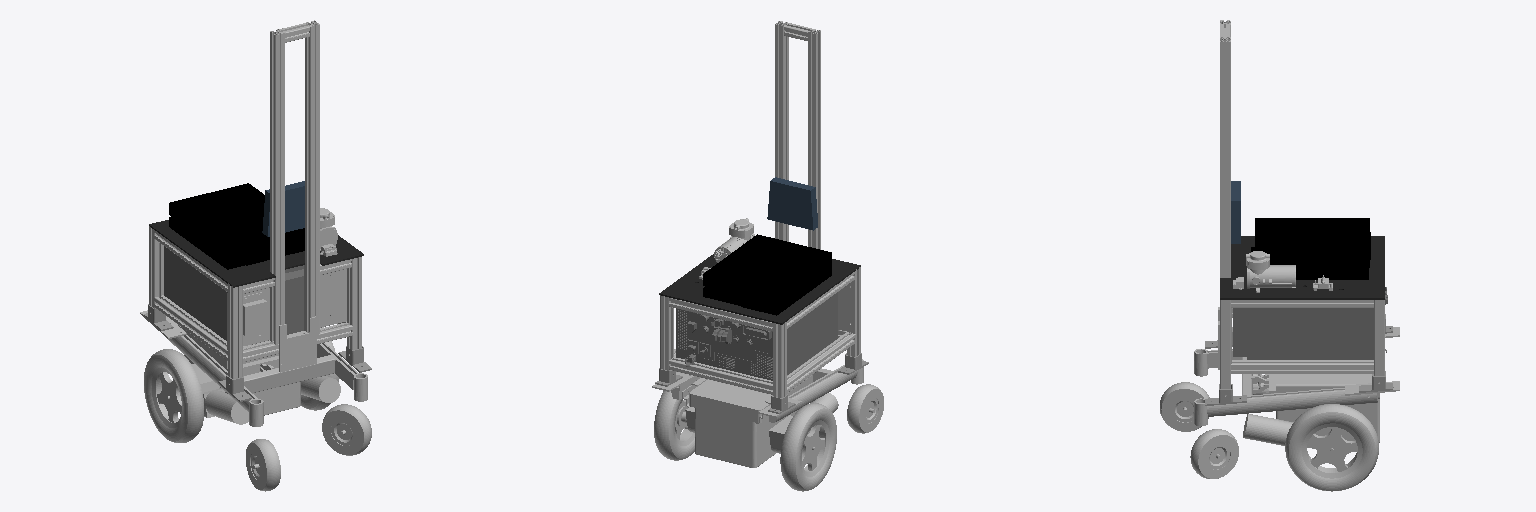
--- Facts derived from the render (not from the file) ---
3 views of the same robot in one strip: view 1: azimuth 30°, elevation 25°; view 2: azimuth 150°, elevation 25°; view 3: azimuth 270°, elevation 25° (orthographic).
Model abby with 38 links and 37 joints (6 revolute, 6 continuous, 25 fixed), rooted at frame1, posed all joints at 0.
Links seen in each view (by area): view 1: frame1, frame_solid:11, PC1, r_drive wheel1, IRC5_Compact1, top_plate1, l_caster_wheel1, r_caster_wheel1, router1, compressor1; view 2: frame1, frame_solid:11, IRC5_Compact1, PC1, r_drive wheel1, top_plate1, router1, l_drive_wheel1, r_caster_wheel1, compressor1; view 3: frame1, frame_solid:11, IRC5_Compact1, PC1, l_drive_wheel1, top_plate1, l_caster_wheel1, r_caster_wheel1, compressor1, router1.
Boxes of the visible links, x1,y1,x2,y2 form: frame1: (149,20,361,378); frame_solid:11: (167,323,367,426); PC1: (169,183,304,269); r_drive wheel1: (144,349,203,442); IRC5_Compact1: (164,246,329,344); top_plate1: (149,220,363,287); l_caster_wheel1: (322,404,371,455); r_caster_wheel1: (246,439,280,491); router1: (262,181,304,236); compressor1: (320,208,337,248); frame1: (660,21,860,397); frame_solid:11: (671,359,863,467); IRC5_Compact1: (676,292,837,380); PC1: (703,234,831,315); r_drive wheel1: (780,403,836,491); top_plate1: (659,254,860,324); router1: (767,177,817,230); l_drive_wheel1: (654,391,694,460); r_caster_wheel1: (847,384,883,433); compressor1: (714,218,754,262); frame1: (1218,20,1384,395); frame_solid:11: (1194,349,1379,451); IRC5_Compact1: (1233,287,1387,359); PC1: (1251,218,1370,279); l_drive_wheel1: (1285,404,1378,491); top_plate1: (1220,236,1384,299); l_caster_wheel1: (1190,429,1238,478); r_caster_wheel1: (1160,382,1209,431); compressor1: (1246,251,1295,292); router1: (1231,181,1240,243).
Size in the robot's own frame: 0.6308 by 0.8792 by 1.72 metres.
19 mesh visuals loaded from 26 distinct referenced files (14 binary STL); not drawn: 14 (reference not matched to a file when rendering).

The robot description file, URDF, robot "abby":
<?xml version="1.0" ?>
<!-- =================================================================================== -->
<!-- |    This document was autogenerated by xacro from abby.xacro                     | -->
<!-- |    EDITING THIS FILE BY HAND IS NOT RECOMMENDED                                 | -->
<!-- =================================================================================== -->
<robot name="abby" xmlns:controller="http://playerstage.sourceforge.net/gazebo/xmlschema/#controller" xmlns:interface="http://playerstage.sourceforge.net/gazebo/xmlschema/#interface" xmlns:sensor="http://playerstage.sourceforge.net/gazebo/xmlschema/#sensor" xmlns:xacro="http://ros.org/wiki/xacro">
  <link name="irb_120_base_link">
    <visual>
      <geometry>
        <mesh filename="package://abb_common/meshes/irb_120/visual/base_link.stl" scale="0.0254 0.0254 0.0254"/>
      </geometry>
      <origin rpy="0 0 0" xyz="0.04203954 -0.07963916 8.0162399451e-05"/>
      <material name="IRB120_Base_rev0:11_color">
        <color rgba="0.752941 0.752941 0.752941 1"/>
      </material>
    </visual>
    <inertial>
      <mass value="6.21503193527"/>
      <inertia ixx="0.0247271241712" ixy="-0.00130888043627" ixz="-8.0795905152e-05" iyy="0.04723746454" iyz="-8.0325637493e-06" izz="0.049128484834"/>
      <origin rpy="0 0 0" xyz="0 0 0"/>
    </inertial>
    <collision>
      <geometry>
        <mesh filename="package://abb_common/meshes/irb_120/collision/base_link.stl" scale="0.0254 0.0254 0.0254"/>
      </geometry>
      <origin rpy="0 0 0" xyz="0.04203954 -0.07963916 8.0162399451e-05"/>
    </collision>
  </link>
  <link name="irb_120_link_1">
    <visual>
      <geometry>
        <mesh filename="package://abb_common/meshes/irb_120/visual/link_1.stl" scale="0.0254 0.0254 0.0254"/>
      </geometry>
      <origin rpy="0 0 0" xyz="0 -0.17649952 0"/>
      <material name="IRB120_Link1_rev0:11_color">
        <color rgba="0.752941 0.752941 0.752941 1"/>
      </material>
    </visual>
    <inertial>
      <mass value="3.06736850696"/>
      <inertia ixx="0.0142194659396" ixy="2.31078173317e-05" ixz="-1.08613978372e-05" iyy="0.0104561541196" iyz="1.93410231314e-05" izz="0.0144054074894"/>
      <origin rpy="0 0 0" xyz="9.92932610521e-05 0.0619125 0.000120146707416"/>
    </inertial>
    <collision>
      <geometry>
        <mesh filename="package://abb_common/meshes/irb_120/collision/link_1.stl" scale="0.0254 0.0254 0.0254"/>
      </geometry>
      <origin rpy="0 0 0" xyz="0 -0.17649952 0"/>
    </collision>
  </link>
  <link name="irb_120_link_2">
    <visual>
      <geometry>
        <mesh filename="package://abb_common/meshes/irb_120/visual/link_2.stl" scale="0.0254 0.0254 0.0254"/>
      </geometry>
      <origin rpy="0 0 0" xyz="1.54358428872e-06 0.269999754796 0.115499748015"/>
      <material name="IRB120_Link2_rev0:11_color">
        <color rgba="0.752941 0.752941 0.752941 1"/>
      </material>
    </visual>
    <inertial>
      <mass value="3.90875060185"/>
      <inertia ixx="0.060313948885" ixy="-5.7255892235e-05" ixz="9.0138634014e-06" iyy="0.0259554972424" iyz="-0.00050500074453" izz="0.041571134309"/>
      <origin rpy="0 0 0" xyz="0.000778420420581 0.101238818962 0.0596167646499"/>
    </inertial>
    <collision>
      <geometry>
        <mesh filename="package://abb_common/meshes/irb_120/collision/link_2.stl" scale="0.0254 0.0254 0.0254"/>
      </geometry>
      <origin rpy="0 0 0" xyz="1.54358428872e-06 0.269999754796 0.115499748015"/>
    </collision>
  </link>
  <link name="irb_120_link_3">
    <visual>
      <geometry>
        <mesh filename="package://abb_common/meshes/irb_120/visual/link_3.stl" scale="0.0254 0.0254 0.0254"/>
      </geometry>
      <origin rpy="0 0 0" xyz="0.071952848745 -0.0661526901756 0.0589997805382"/>
      <material name="IRB120_Link3_rev0:11_color">
        <color rgba="0.752941 0.752941 0.752941 1"/>
      </material>
    </visual>
    <inertial>
      <mass value="2.94383262499"/>
      <inertia ixx="0.0083145487625" ixy="-0.00142864798126" ixz="-7.9926773262e-05" iyy="0.0126560235034" iyz="-0.000181719383164" izz="0.016713669618"/>
      <origin rpy="0 0 0" xyz="0.0228077138503 0.0579088629114 0.0579265785584"/>
    </inertial>
    <collision>
      <geometry>
        <mesh filename="package://abb_common/meshes/irb_120/collision/link_3.stl" scale="0.0254 0.0254 0.0254"/>
      </geometry>
      <origin rpy="0 0 0" xyz="0.071952848745 -0.0661526901756 0.0589997805382"/>
    </collision>
  </link>
  <link name="irb_120_link_4">
    <visual>
      <geometry>
        <mesh filename="package://abb_common/meshes/irb_120/visual/link_4.stl" scale="0.0254 0.0254 0.0254"/>
      </geometry>
      <origin rpy="0 0 0" xyz="500.302187012 0.00151561224702 -0.000313229561613"/>
      <material name="IRB120_Link4_rev0:11_color">
        <color rgba="0.752941 0.752941 0.752941 1"/>
      </material>
    </visual>
    <inertial>
      <mass value="1.32790527095"/>
      <inertia ixx="0.00284579825479" ixy="1.64819596414e-05" ixz="-2.12443634431e-05" iyy="0.0052535657425" iyz="1.31403377384e-05" izz="0.0040129019173"/>
      <origin rpy="0 0 0" xyz="500.224891826 0.00192302092756 -0.000467285335568"/>
    </inertial>
    <collision>
      <geometry>
        <mesh filename="package://abb_common/meshes/irb_120/collision/link_4.stl" scale="0.0254 0.0254 0.0254"/>
      </geometry>
      <origin rpy="0 0 0" xyz="500.302187012 0.00151561224702 -0.000313229561613"/>
    </collision>
  </link>
  <link name="irb_120_link_5">
    <visual>
      <geometry>
        <mesh filename="package://abb_common/meshes/irb_120/visual/link_5.stl" scale="0.0254 0.0254 0.0254"/>
      </geometry>
      <origin rpy="0 0 0" xyz="-0.301998488439 -0.629998750685 -0.0619993114233"/>
      <material name="IRB120_Link5_rev0:11_color">
        <color rgba="0.752941 0.752941 0.752941 1"/>
      </material>
    </visual>
    <inertial>
      <mass value="0.546633236934"/>
      <inertia ixx="0.00040430142646" ixy="-8.1520474364e-07" ixz="1.6167316339e-06" iyy="0.00081538617858" iyz="-1.38898103591e-08" izz="0.00089215071642"/>
      <origin rpy="0 0 0" xyz="-0.00109373496991 6.05486054406e-05 -0.0620361403843"/>
    </inertial>
    <collision>
      <geometry>
        <mesh filename="package://abb_common/meshes/irb_120/collision/link_5.stl" scale="0.0254 0.0254 0.0254"/>
      </geometry>
      <origin rpy="0 0 0" xyz="-0.301998488439 -0.629998750685 -0.0619993114233"/>
    </collision>
  </link>
  <link name="irb_120_link_6">
    <visual>
      <geometry>
        <mesh filename="package://abb_common/meshes/irb_120/visual/link_6.stl" scale="0.0254 0.0254 0.0254"/>
      </geometry>
      <origin rpy="0 0 0" xyz="-2.74896335695e-07 -8.57788299224e-07 -0.0130000906507"/>
      <material name="IRB120_Link6_rev0:11_color">
        <color rgba="0.752941 0.752941 0.752941 1"/>
      </material>
    </visual>
    <inertial>
      <mass value="0.0136784407912"/>
      <inertia ixx="1.65768910842e-06" ixy="-3.0670406059e-12" ixz="8.9225606574e-11" iyy="1.69424824883e-06" iyz="-7.6624364717e-09" izz="2.9767913551e-06"/>
      <origin rpy="0 0 0" xyz="-4.42649390919e-07 0.000169444143624 -0.0070610831163"/>
    </inertial>
    <collision>
      <geometry>
        <mesh filename="package://abb_common/meshes/irb_120/collision/link_6.stl" scale="0.0254 0.0254 0.0254"/>
      </geometry>
      <origin rpy="0 0 0" xyz="-2.74896335695e-07 -8.57788299224e-07 -0.0130000906507"/>
    </collision>
  </link>
  <joint name="joint1" type="revolute">
    <parent link="irb_120_base_link"/>
    <child link="irb_120_link_1"/>
    <limit effort="300" lower="-2.88" upper="2.88" velocity="4.36"/>
    <axis xyz="0 1 0"/>
    <origin rpy="-3.14159265359 3.14159265359 3.14159265359" xyz="0.04203954 0.09686036 0"/>
  </joint>
  <joint name="joint2" type="revolute">
    <parent link="irb_120_link_1"/>
    <child link="irb_120_link_2"/>
    <limit effort="300" lower="-1.92" upper="1.92" velocity="4.36"/>
    <axis xyz="0 0 1"/>
    <origin rpy="3.14159265359 0 3.14159265359" xyz="0 0.1134999 0.0574996276953"/>
  </joint>
  <joint name="joint3" type="revolute">
    <parent link="irb_120_link_2"/>
    <child link="irb_120_link_3"/>
    <limit effort="300" lower="-1.92" upper="1.22" velocity="4.36"/>
    <axis xyz="0 0 -1"/>
    <origin rpy="3.14159265359 0 3.14159265359" xyz="0 0.270000153642 0.108"/>
  </joint>
  <joint name="joint4" type="revolute">
    <parent link="irb_120_link_3"/>
    <child link="irb_120_link_4"/>
    <limit effort="300" lower="-2.79" upper="2.79" velocity="5.58"/>
    <axis xyz="1 0 0"/>
    <origin rpy="0 0 0" xyz="-500.000188071 0.0701403024607 0.060593734446"/>
  </joint>
  <joint name="joint5" type="revolute">
    <parent link="irb_120_link_4"/>
    <child link="irb_120_link_5"/>
    <limit effort="300" lower="-2.09" upper="2.09" velocity="5.58"/>
    <axis xyz="0 0 -1"/>
    <origin rpy="0 0 0" xyz="500.302186066 0.00151566707848 0.0616850168905"/>
  </joint>
  <joint name="joint6" type="revolute">
    <parent link="irb_120_link_5"/>
    <child link="irb_120_link_6"/>
    <limit effort="300" lower="-6.98" upper="6.98" velocity="7.33"/>
    <axis xyz="0 0 1"/>
    <origin rpy="-1.5707961734 0 -1.57079621992" xyz="0.072000865279 0 -0.0620001796247"/>
  </joint>
  <joint name="base_camera_joint" type="fixed">
    <origin rpy="0 0.436331944 -1.570795" xyz="0.04464 -0.6357 1.491"/>
    <parent link="frame1"/>
    <origin rpy="0 0 0" xyz="0 0 0"/>
    <child link="camera_link"/>
  </joint>
  <link name="camera_link">
    <inertial>
      <mass value="0.01"/>
      <origin xyz="0 0 0"/>
      <inertia ixx="0.001" ixy="0.0" ixz="0.0" iyy="0.001" iyz="0.0" izz="0.001"/>
    </inertial>
    <visual>
      <origin rpy="0 0 0" xyz=" 0 0 0 "/>
      <geometry>
        <mesh filename="package://cwru_description/meshes/kinect.dae"/>
      </geometry>
    </visual>
    <collision>
      <origin rpy="0 0 0" xyz="0.0 0.0 0.0"/>
      <geometry>
        <box size="0.0730 .2760 0.0720"/>
      </geometry>
    </collision>
  </link>
  <joint name="camera_depth_joint" type="fixed">
    <origin rpy="0 0 0" xyz="0 0.018 0"/>
    <parent link="camera_link"/>
    <child link="camera_depth_frame"/>
  </joint>
  <link name="camera_depth_frame">
    <inertial>
      <mass value="0.01"/>
      <origin xyz="0 0 0"/>
      <inertia ixx="0.001" ixy="0.0" ixz="0.0" iyy="0.001" iyz="0.0" izz="0.001"/>
    </inertial>
  </link>
  <joint name="camera_depth_optical_joint" type="fixed">
    <origin rpy="-1.570795 0 -1.570795" xyz="0 0 0"/>
    <parent link="camera_depth_frame"/>
    <child link="camera_depth_optical_frame"/>
  </joint>
  <link name="camera_depth_optical_frame">
    <inertial>
      <mass value="0.001"/>
      <origin xyz="0 0 0"/>
      <inertia ixx="0.0001" ixy="0.0" ixz="0.0" iyy="0.0001" iyz="0.0" izz="0.0001"/>
    </inertial>
  </link>
  <joint name="camera_rgb_joint" type="fixed">
    <origin rpy="0 0 0" xyz="0 -0.005 0"/>
    <parent link="camera_link"/>
    <child link="camera_rgb_frame"/>
  </joint>
  <link name="camera_rgb_frame">
    <inertial>
      <mass value="0.001"/>
      <origin xyz="0 0 0"/>
      <inertia ixx="0.0001" ixy="0.0" ixz="0.0" iyy="0.0001" iyz="0.0" izz="0.0001"/>
    </inertial>
  </link>
  <joint name="camera_rgb_optical_joint" type="fixed">
    <origin rpy="-1.570795 0 -1.570795" xyz="0 0 0"/>
    <parent link="camera_rgb_frame"/>
    <child link="camera_rgb_optical_frame"/>
  </joint>
  <link name="camera_rgb_optical_frame">
    <inertial>
      <mass value="0.001"/>
      <origin xyz="0 0 0"/>
      <inertia ixx="0.0001" ixy="0.0" ixz="0.0" iyy="0.0001" iyz="0.0" izz="0.0001"/>
    </inertial>
  </link>
  <gazebo reference="camera_link">
    <sensor:camera name="camera">
      <imageFormat>R8G8B8</imageFormat>
      <imageSize>640 480</imageSize>
      <hfov>60</hfov>
      <nearClip>0.05</nearClip>
      <farClip>3</farClip>
      <updateRate>20</updateRate>
      <baseline>0.1</baseline>
      <controller:gazebo_ros_openni_kinect name="kinect_camera_controller" plugin="libgazebo_ros_openni_kinect.so">
        <alwaysOn>true</alwaysOn>
        <updateRate>20</updateRate>
        <imageTopicName>/camera/image_raw</imageTopicName>
        <pointCloudTopicName>/camera/depth/points</pointCloudTopicName>
        <cameraInfoTopicName>/camera/camera_info</cameraInfoTopicName>
        <frameName>camera_depth_optical_frame</frameName>
        <distortion_k1>0.0</distortion_k1>
        <distortion_k2>0.0</distortion_k2>
        <distortion_k3>0.0</distortion_k3>
        <distortion_t1>0.0</distortion_t1>
        <distortion_t2>0.0</distortion_t2>
      </controller:gazebo_ros_openni_kinect>
    </sensor:camera>
  </gazebo>
  <joint name="base_laser_joint" type="fixed">
    <origin rpy="1.5707959092 0 -3.14159265358" xyz="-0.0255468119868 -0.474758386705 0.311455920061"/>
    <parent link="frame1"/>
    <origin rpy="0 0 0" xyz="0 0 0"/>
    <child link="SICK_LMS291"/>
  </joint>
  <link name="SICK_LMS291">
    <visual>
      <geometry>
        <mesh filename="package://cwru_description/meshes/sick_lms291.stl" scale="0.0254 0.0254 0.0254"/>
      </geometry>
      <origin rpy="0 0 0" xyz="-0.0683999139953 -0.00245779587475 -0.0929987962566"/>
      <material name="SICK_LMS2911_color">
        <color rgba="0.752941 0.752941 0.752941 1"/>
      </material>
    </visual>
    <inertial>
      <mass value="3.71737544502"/>
      <inertia ixx="0.0174805834039" ixy="-4.4195210288e-07" ixz="4.1599227461e-07" iyy="0.0127643577208" iyz="0.00072853444335" izz="0.0175041992098"/>
      <origin rpy="0 0 0" xyz="-0.0684016920036 0.0653465146418 -0.0708751847642"/>
    </inertial>
    <collision>
      <geometry>
        <mesh filename="package://cwru_description/meshes/sick_lms291.stl" scale="0.0254 0.0254 0.0254"/>
      </geometry>
      <origin rpy="0 0 0" xyz="-0.0683999139953 -0.00245779587475 -0.0929987962566"/>
    </collision>
  </link>
  <link name="base_laser1_link">
    <inertial>
      <mass value="0.01"/>
      <origin xyz="0 0 0"/>
      <inertia ixx="0.001" ixy="0.0" ixz="0.0" iyy="0.001" iyz="0.0" izz="0.001"/>
    </inertial>
  </link>
  <joint name="SICK_laser_frame_joint" type="fixed">
    <origin rpy="1.266 1.571 2.837" xyz="-0.0683999139953 0.035 -0.093"/>
    <parent link="SICK_LMS291"/>
    <child link="base_laser1_link"/>
  </joint>
  <link name="frame1">
    <visual>
      <geometry>
        <mesh filename="package://abby_description/meshes/al_frame_iam_3826baa4.stl" scale="0.0254 0.0254 0.0254"/>
      </geometry>
      <origin rpy="0 0 0" xyz="0.0446356739978 0.177065647653 -0.0893087163603"/>
      <material name="frame1_color">
        <color rgba="0.752941 0.752941 0.752941 1"/>
      </material>
    </visual>
    <inertial>
      <mass value="12.7774249075"/>
      <inertia ixx="2.11995607184" ixy="-0.0128393605839" ixz="-0.0068818565379" iyy="1.84586933127" iyz="0.34872380742" izz="1.11710077832"/>
      <origin rpy="0 0 0" xyz="0.0382793240557 -0.271251963735 0.649589084908"/>
    </inertial>
    <collision>
      <geometry>
        <mesh filename="package://abby_description/meshes/al_frame_iam_3826baa4.stl" scale="0.0254 0.0254 0.0254"/>
      </geometry>
      <origin rpy="0 0 0" xyz="0.0446356739978 0.177065647653 -0.0893087163603"/>
    </collision>
  </link>
  <link name="f_r_frame_bracket1">
    <visual>
      <geometry>
        <mesh filename="package://abby_description/meshes/frame bracket_ipt_f5a4f28d.stl" scale="0.0254 0.0254 0.0254"/>
      </geometry>
      <origin rpy="0 0 0" xyz="-0.0946635865578 -0.0205552039632 -0.424782665556"/>
      <material name="f_r_frame_bracket1_color">
        <color rgba="0.639216 0.639216 0.639216 1"/>
      </material>
    </visual>
    <inertial>
      <mass value="0.71440798275"/>
      <inertia ixx="0.00043051877529" ixy="0.0" ixz="-1.18150140291e-05" iyy="0.00109167940213" iyz="0.0" izz="0.00105983757016"/>
      <origin rpy="0 0 0" xyz="-0.0175668955453 0.00484479603152 -0.408054413923"/>
    </inertial>
    <collision>
      <geometry>
        <mesh filename="package://abby_description/meshes/frame bracket_ipt_f5a4f28d.stl" scale="0.0254 0.0254 0.0254"/>
      </geometry>
      <origin rpy="0 0 0" xyz="-0.0946635865578 -0.0205552039632 -0.424782665556"/>
    </collision>
  </link>
  <joint name="frame--f_r_frame_bracket1" type="fixed">
    <parent link="frame1"/>
    <child link="f_r_frame_bracket1"/>
    <origin rpy="0 -0.0938814541614 1.5707963268" xyz="-0.197196963951 -0.46840807491 0.660027160644"/>
  </joint>
  <link name="f_l_frame_bracket1">
    <visual>
      <geometry>
        <mesh filename="package://abby_description/meshes/frame bracket_ipt_f5a4f28d.stl" scale="0.0254 0.0254 0.0254"/>
      </geometry>
      <origin rpy="0 0 0" xyz="-0.050800692836 -0.0508000000121 -0.00634958439213"/>
      <material name="f_l_frame_bracket1_color">
        <color rgba="0.639216 0.639216 0.639216 1"/>
      </material>
    </visual>
    <inertial>
      <mass value="0.71440798275"/>
      <inertia ixx="0.00043051877529" ixy="0.0" ixz="-1.18150140291e-05" iyy="0.00109167940213" iyz="0.0" izz="0.00105983757016"/>
      <origin rpy="0 0 0" xyz="0.026295998169 -0.025399999994 0.0103786672398"/>
    </inertial>
    <collision>
      <geometry>
        <mesh filename="package://abby_description/meshes/frame bracket_ipt_f5a4f28d.stl" scale="0.0254 0.0254 0.0254"/>
      </geometry>
      <origin rpy="0 0 0" xyz="-0.050800692836 -0.0508000000121 -0.00634958439213"/>
    </collision>
  </link>
  <joint name="f_l_frame_bracket--f_r_frame_bracket1" type="fixed">
    <parent link="f_r_frame_bracket1"/>
    <child link="f_l_frame_bracket1"/>
    <origin rpy="0 0 0" xyz="-0.0438628937327 -0.464082383966 -0.418433081198"/>
  </joint>
  <link name="f_l_frame_plate1">
    <visual>
      <geometry>
        <mesh filename="package://abby_description/meshes/front frame plate_ipt_3e5bfe16.stl" scale="0.0254 0.0254 0.0254"/>
      </geometry>
      <origin rpy="0 0 0" xyz="0 0 0"/>
      <material name="f_l_frame_plate1_color">
        <color rgba="0.752941 0.752941 0.752941 1"/>
      </material>
    </visual>
    <inertial>
      <mass value="0.072583397455"/>
      <inertia ixx="0.000139975007751" ixy="0.0" ixz="0.0" iyy="3.5475798236e-05" iyz="0.0" izz="0.000174962980108"/>
      <origin rpy="0 0 0" xyz="0.0380034800186 0.0762017426097 0.00317605933453"/>
    </inertial>
    <collision>
      <geometry>
        <mesh filename="package://abby_description/meshes/front frame plate_ipt_3e5bfe16.stl" scale="0.0254 0.0254 0.0254"/>
      </geometry>
      <origin rpy="0 0 0" xyz="0 0 0"/>
    </collision>
  </link>
  <joint name="f_l_frame_plate--f_l_frame_bracket1" type="fixed">
    <parent link="f_l_frame_bracket1"/>
    <child link="f_l_frame_plate1"/>
    <origin rpy="-3.14159265359 0 1.57079632679" xyz="-0.050800692836 -0.0508000000121 -0.00634958439213"/>
  </joint>
  <link name="f_r_frame_plate1">
    <visual>
      <geometry>
        <mesh filename="package://abby_description/meshes/front frame plate_ipt_3e5bfe16.stl" scale="0.0254 0.0254 0.0254"/>
      </geometry>
      <origin rpy="0 0 0" xyz="-0.0381000000045 -0.0762009322898 -0.00634941359797"/>
      <material name="f_r_frame_plate1_color">
        <color rgba="0.752941 0.752941 0.752941 1"/>
      </material>
    </visual>
    <inertial>
      <mass value="0.072583397455"/>
      <inertia ixx="0.000139975007751" ixy="0.0" ixz="0.0" iyy="3.5475798236e-05" iyz="0.0" izz="0.000174962980108"/>
      <origin rpy="0 0 0" xyz="-9.52500002381e-05 9.97890829302e-07 -0.00317559036918"/>
    </inertial>
    <collision>
      <geometry>
        <mesh filename="package://abby_description/meshes/front frame plate_ipt_3e5bfe16.stl" scale="0.0254 0.0254 0.0254"/>
      </geometry>
      <origin rpy="0 0 0" xyz="-0.0381000000045 -0.0762009322898 -0.00634941359797"/>
    </collision>
  </link>
  <joint name="f_r_frame_plate--f_r_frame_bracket1" type="fixed">
    <parent link="f_r_frame_bracket1"/>
    <child link="f_r_frame_plate1"/>
    <origin rpy="0 0 -1.57079632679" xyz="-0.0184628418291 -0.00785520396718 -0.424783134521"/>
  </joint>
  <link name="b_r_frame_bracket1">
    <visual>
      <geometry>
        <mesh filename="package://abby_description/meshes/short frame bracket_ipt_f5a4f28d.stl" scale="0.0254 0.0254 0.0254"/>
      </geometry>
      <origin rpy="0 0 0" xyz="-0.0774480173821 -0.0263550400145 -0.00822489041407"/>
      <material name="b_r_frame_bracket1_color">
        <color rgba="0.639216 0.639216 0.639216 1"/>
      </material>
    </visual>
    <inertial>
      <mass value="0.71440798275"/>
      <inertia ixx="0.00044432538895" ixy="0.0" ixz="-8.3387205787e-05" iyy="0.00086832128551" iyz="0.0" izz="0.00083243813657"/>
      <origin rpy="0 0 0" xyz="-0.00691246125573 -0.000955040002614 0.00995368760594"/>
    </inertial>
    <collision>
      <geometry>
        <mesh filename="package://abby_description/meshes/short frame bracket_ipt_f5a4f28d.stl" scale="0.0254 0.0254 0.0254"/>
      </geometry>
      <origin rpy="0 0 0" xyz="-0.0774480173821 -0.0263550400145 -0.00822489041407"/>
    </collision>
  </link>
  <joint name="frame--b_r_frame_bracket1" type="fixed">
    <parent link="frame1"/>
    <child link="b_r_frame_bracket1"/>
    <origin rpy="0 -0.0938814541614 1.57079632654" xyz="-0.202996799965 0.113567247403 0.29642350598"/>
  </joint>
  <link name="b_r_frame_plate1">
    <visual>
      <geometry>
        <mesh filename="package://abby_description/meshes/back frame plate_ipt_475e4947.stl" scale="0.0254 0.0254 0.0254"/>
      </geometry>
      <origin rpy="0 0 0" xyz="-0.0254000000255 -0.126998971214 1.58112569598e-06"/>
      <material name="b_r_frame_plate1_color">
        <color rgba="0.752941 0.752941 0.752941 1"/>
      </material>
    </visual>
    <inertial>
      <mass value="0.0971640215777"/>
      <inertia ixx="0.0003344255636" ixy="8.4155085275e-07" ixz="0.0" iyy="4.7517225512e-05" iyz="0.0" izz="0.00038129137915"/>
      <origin rpy="0 0 0" xyz="0.0126431039946 -0.025550836608 0.00317565745359"/>
    </inertial>
    <collision>
      <geometry>
        <mesh filename="package://abby_description/meshes/back frame plate_ipt_475e4947.stl" scale="0.0254 0.0254 0.0254"/>
      </geometry>
      <origin rpy="0 0 0" xyz="-0.0254000000255 -0.126998971214 1.58112569598e-06"/>
    </collision>
  </link>
  <joint name="b_r_frame_plate--b_r_frame_bracket1" type="fixed">
    <parent link="b_r_frame_bracket1"/>
    <child link="b_r_frame_plate1"/>
    <origin rpy="3.14159265359 0 -1.57079632679" xyz="-0.0520471238425 -0.000955040009423 -0.00822349691669"/>
  </joint>
  <link name="IRC5_Compact1">
    <visual>
      <geometry>
        <mesh filename="package://abby_description/meshes/irc5_compact_ipt_c844072c.stl" scale="0.0254 0.0254 0.0254"/>
      </geometry>
      <origin rpy="0 0 0" xyz="-0.000849884100615 0.0283509919265 -0.462400284136"/>
      <material name="IRC5_Compact1_color">
        <color rgba="0.498039 0.498039 0.498039 1"/>
      </material>
    </visual>
    <inertial>
      <mass value="28.440241599"/>
      <inertia ixx="0.75499468089" ixy="-0.00122306756239" ixz="-0.00124304296401" iyy="1.08063235538" iyz="-0.0064925615368" izz="0.61093241216"/>
      <origin rpy="0 0 0" xyz="-0.225686620068 0.151686511222 -0.249482492333"/>
    </inertial>
    <collision>
      <geometry>
        <mesh filename="package://abby_description/meshes/irc5_compact_ipt_c844072c.stl" scale="0.0254 0.0254 0.0254"/>
      </geometry>
      <origin rpy="0 0 0" xyz="-0.000849884100615 0.0283509919265 -0.462400284136"/>
    </collision>
  </link>
  <joint name="frame--IRC5_Compact1" type="fixed">
    <parent link="frame1"/>
    <child link="IRC5_Compact1"/>
    <origin rpy="1.5707959092 0 3.14159265334" xyz="-0.18299683996 0.0935673788127 0.353829950251"/>
  </joint>
  <link name="router1">
    <visual>
      <geometry>
        <mesh filename="package://abby_description/meshes/router keepout_ipt_2b3ba7b4.stl" scale="0.0254 0.0254 0.0254"/>
      </geometry>
      <origin rpy="0 0 0" xyz="0.0783000719655 0.725341498268 -1.11194969221e-06"/>
      <material name="router1_color">
        <color rgba="0.25098 0.321569 0.392157 1"/>
      </material>
    </visual>
    <inertial>
      <mass value="0.28349523125"/>
      <inertia ixx="0.00067729370465" ixy="0.0" ixz="0.0" iyy="0.0008954399563" iyz="0.0" izz="0.00150414540089"/>
      <origin rpy="0 0 0" xyz="0.0783000719663 0.727175853591 0.0190494073449"/>
    </inertial>
    <collision>
      <geometry>
        <mesh filename="package://abby_description/meshes/router keepout_ipt_2b3ba7b4.stl" scale="0.0254 0.0254 0.0254"/>
      </geometry>
      <origin rpy="0 0 0" xyz="0.0783000719655 0.725341498268 -1.11194969221e-06"/>
    </collision>
  </link>
  <joint name="frame--router1" type="fixed">
    <parent link="frame1"/>
    <child link="router1"/>
    <origin rpy="-1.5707959092 0 0" xyz="-0.0354469698523 -0.430316747951 1.61002981286"/>
  </joint>
  <link name="base_plate1">
    <visual>
      <geometry>
        <mesh filename="package://abby_description/meshes/base plate_iam_348b8023.stl" scale="0.0254 0.0254 0.0254"/>
      </geometry>
      <origin rpy="0 0 0" xyz="-0.296284250178 -0.709693779926 -0.581261979343"/>
      <material name="base_plate1_color">
        <color rgba="0.752941 0.752941 0.752941 1"/>
      </material>
    </visual>
    <inertial>
      <mass value="11.253309185"/>
      <inertia ixx="0.192702049774" ixy="-0.0128927375727" ixz="-0.00057983680454" iyy="0.235790506928" iyz="0.002976996201" izz="0.41200655867"/>
      <origin rpy="0 0 0" xyz="-0.259429264405 -0.197794168785 -0.0311541484255"/>
    </inertial>
    <collision>
      <geometry>
        <mesh filename="package://abby_description/meshes/base plate_iam_348b8023.stl" scale="0.0254 0.0254 0.0254"/>
      </geometry>
      <origin rpy="0 0 0" xyz="-0.296284250178 -0.709693779926 -0.581261979343"/>
    </collision>
  </link>
  <joint name="frame--base_plate1" type="fixed">
    <parent link="frame1"/>
    <child link="base_plate1"/>
    <origin rpy="0 0 1.5707963268" xyz="-0.182996839959 0.0950674391444 0.365829741316"/>
  </joint>
  <link name="top_plate1">
    <visual>
      <geometry>
        <mesh filename="package://abby_description/meshes/top plate_ipt_9041f1eb.stl" scale="0.0254 0.0254 0.0254"/>
      </geometry>
      <origin rpy="0 0 0" xyz="-0.039999919998 -0.0370003177082 -0.00635046315153"/>
      <material name="top_plate1_color">
        <color rgba="0.2 0.2 0.2 1"/>
      </material>
    </visual>
    <inertial>
      <mass value="2.41906254029"/>
      <inertia ixx="0.070476646621" ixy="-3.2774173452e-05" ixz="0.0" iyy="0.05993791034" iyz="0.0" izz="0.130398461926"/>
      <origin rpy="0 0 0" xyz="0.229580439988 0.257942378411 -0.00317445298106"/>
    </inertial>
    <collision>
      <geometry>
        <mesh filename="package://abby_description/meshes/top plate_ipt_9041f1eb.stl" scale="0.0254 0.0254 0.0254"/>
      </geometry>
      <origin rpy="0 0 0" xyz="-0.039999919998 -0.0370003177082 -0.00635046315153"/>
    </collision>
  </link>
  <joint name="frame--top_plate1" type="fixed">
    <parent link="frame1"/>
    <child link="top_plate1"/>
    <origin rpy="-3.14159265359 0 0" xyz="-0.182996839929 0.0965675138916 0.656087848989"/>
  </joint>
  <link name="main_breaker1">
    <visual>
      <geometry>
        <mesh filename="package://abby_description/meshes/breaker_iam_746c8f85.stl" scale="0.0254 0.0254 0.0254"/>
      </geometry>
      <origin rpy="0 0 0" xyz="-0.0160837880011 -0.0289106364367 0.00508056290676"/>
      <material name="main_breaker1_color">
        <color rgba="0.752941 0.752941 0.752941 1"/>
      </material>
    </visual>
    <inertial>
      <mass value="0.0936536702263"/>
      <inertia ixx="3.6925814571e-05" ixy="-4.3535021216e-06" ixz="1.05382973255e-07" iyy="2.44166070505e-05" iyz="-2.55254379072e-12" izz="4.8649438065e-05"/>
      <origin rpy="0 0 0" xyz="-0.0161287460005 -0.0289109627394 0.0153385723229"/>
    </inertial>
    <collision>
      <geometry>
        <mesh filename="package://abby_description/meshes/breaker_iam_746c8f85.stl" scale="0.0254 0.0254 0.0254"/>
      </geometry>
      <origin rpy="0 0 0" xyz="-0.0160837880011 -0.0289106364367 0.00508056290676"/>
    </collision>
  </link>
  <joint name="main_breaker--top_plate1" type="fixed">
    <parent link="top_plate1"/>
    <child link="main_breaker1"/>
    <origin rpy="3.14159265359 0 0" xyz="0.426298867993 0.159767684312 -0.00635046455001"/>
  </joint>
  <link name="compressor1">
    <visual>
      <geometry>
        <mesh filename="package://abby_description/meshes/compressor_iam_e870b89.stl" scale="0.0254 0.0254 0.0254"/>
      </geometry>
      <origin rpy="0 0 0" xyz="0.217095026073 0.0541649919903 0.058507418554"/>
      <material name="compressor1_color">
        <color rgba="0.752941 0.752941 0.752941 1"/>
      </material>
    </visual>
    <inertial>
      <mass value="2.12621423437"/>
      <inertia ixx="-0.0061140063136" ixy="0.0073422915937" ixz="0.0121866630191" iyy="-0.0247184035886" iyz="0.0043080263318" izz="-0.0223276763534"/>
      <origin rpy="0 0 0" xyz="0.0555649192101 -0.000189230004887 -0.0360164073274"/>
    </inertial>
    <collision>
      <geometry>
        <mesh filename="package://abby_description/meshes/compressor_iam_e870b89.stl" scale="0.0254 0.0254 0.0254"/>
      </geometry>
      <origin rpy="0 0 0" xyz="0.217095026073 0.0541649919903 0.058507418554"/>
    </collision>
  </link>
  <joint name="compressor--top_plate1" type="fixed">
    <parent link="top_plate1"/>
    <child link="compressor1"/>
    <origin rpy="2.35090778551e-05 1.5707959092 1.57081983614" xyz="0.40450007998 0.426550996313 -0.00635023492284"/>
  </joint>
  <link name="PC1">
    <visual>
      <geometry>
        <mesh filename="package://abby_description/meshes/pc_ipt_a7ade237.stl" scale="0.0254 0.0254 0.0254"/>
      </geometry>
      <origin rpy="0 0 0" xyz="0 -0.095249567657 -1.9383533062e-07"/>
      <material name="PC1_color">
        <color rgba="0 0 0 1"/>
      </material>
    </visual>
    <inertial>
      <mass value="13.0796535036"/>
      <inertia ixx="0.199045542023" ixy="0.000104306361732" ixz="0.00061701926176" iyy="0.3078833877" iyz="0.000148148651798" izz="0.128774326576"/>
      <origin rpy="0 0 0" xyz="0.164833477815 -0.0476494270341 0.207873207523"/>
    </inertial>
    <collision>
      <geometry>
        <mesh filename="package://abby_description/meshes/pc_ipt_a7ade237.stl" scale="0.0254 0.0254 0.0254"/>
      </geometry>
      <origin rpy="0 0 0" xyz="0 -0.095249567657 -1.9383533062e-07"/>
    </collision>
  </link>
  <joint name="PC--top_plate1" type="fixed">
    <parent link="top_plate1"/>
    <child link="PC1"/>
    <origin rpy="1.57079674439 0 0" xyz="0.0108000799797 0.436074033464 -0.00635125529283"/>
  </joint>
  <link name="spike_relay1">
    <visual>
      <geometry>
        <mesh filename="package://abby_description/meshes/spike h_iam_f19c9874.stl" scale="0.0254 0.0254 0.0254"/>
      </geometry>
      <origin rpy="0 0 0" xyz="0.165495388905 -0.231988605905 -4.80033572003e-07"/>
      <material name="spike_relay1_color">
        <color rgba="0.752941 0.752941 0.752941 1"/>
      </material>
    </visual>
    <inertial>
      <mass value="0.02553552678"/>
      <inertia ixx="4.8431130863e-06" ixy="-7.8309953837e-09" ixz="-2.27668366993e-09" iyy="8.2511635883e-06" iyz="-1.99978761416e-07" izz="1.02136458377e-05"/>
      <origin rpy="0 0 0" xyz="0.16538182583 -0.230617385381 0.00965819617544"/>
    </inertial>
    <collision>
      <geometry>
        <mesh filename="package://abby_description/meshes/spike h_iam_f19c9874.stl" scale="0.0254 0.0254 0.0254"/>
      </geometry>
      <origin rpy="0 0 0" xyz="0.165495388905 -0.231988605905 -4.80033572003e-07"/>
    </collision>
  </link>
  <joint name="top_plate--spike_relay1" type="fixed">
    <parent link="top_plate1"/>
    <child link="spike_relay1"/>
    <origin rpy="3.14159264636 0 0.00520380555278" xyz="0.229875079988 0.264625478066 -0.00635030519039"/>
  </joint>
  <link name="b_l_frame_bracket1">
    <visual>
      <geometry>
        <mesh filename="package://abby_description/meshes/short frame bracket_ipt_f5a4f28d.stl" scale="0.0254 0.0254 0.0254"/>
      </geometry>
      <origin rpy="0 0 0" xyz="-0.0635428211507 -0.00444500001769 -0.0603982600527"/>
      <material name="b_l_frame_bracket1_color">
        <color rgba="0.639216 0.639216 0.639216 1"/>
      </material>
    </visual>
    <inertial>
      <mass value="0.71440798275"/>
      <inertia ixx="0.00044432538895" ixy="0.0" ixz="-8.3387205787e-05" iyy="0.00086832128551" iyz="0.0" izz="0.00083243813657"/>
      <origin rpy="0 0 0" xyz="0.00699273497077 0.020955000008 -0.0422196820327"/>
    </inertial>
    <collision>
      <geometry>
        <mesh filename="package://abby_description/meshes/short frame bracket_ipt_f5a4f28d.stl" scale="0.0254 0.0254 0.0254"/>
      </geometry>
      <origin rpy="0 0 0" xyz="-0.0635428211507 -0.00444500001769 -0.0603982600527"/>
    </collision>
  </link>
  <joint name="b_l_frame_bracket--frame1" type="fixed">
    <parent link="frame1"/>
    <child link="b_l_frame_bracket1"/>
    <origin rpy="0 -0.0938814541614 1.57079632635" xyz="0.313240420039 0.0948323645811 0.347063600205"/>
  </joint>
  <link name="b_l_frame_plate1">
    <visual>
      <geometry>
        <mesh filename="package://abby_description/meshes/back frame plate_ipt_475e4947.stl" scale="0.0254 0.0254 0.0254"/>
      </geometry>
      <origin rpy="0 0 0" xyz="0 0 0"/>
      <material name="b_l_frame_plate1_color">
        <color rgba="0.752941 0.752941 0.752941 1"/>
      </material>
    </visual>
    <inertial>
      <mass value="0.0971640215777"/>
      <inertia ixx="0.0003344255636" ixy="8.4155085275e-07" ixz="0.0" iyy="4.7517225512e-05" iyz="0.0" izz="0.00038129137915"/>
      <origin rpy="0 0 0" xyz="0.0380441199796 0.101448124476 0.00317600333501"/>
    </inertial>
    <collision>
      <geometry>
        <mesh filename="package://abby_description/meshes/back frame plate_ipt_475e4947.stl" scale="0.0254 0.0254 0.0254"/>
      </geometry>
      <origin rpy="0 0 0" xyz="0 0 0"/>
    </collision>
  </link>
  <joint name="b_l_frame_plate--b_l_frame_bracket1" type="fixed">
    <parent link="b_l_frame_bracket1"/>
    <child link="b_l_frame_plate1"/>
    <origin rpy="0 0 1.57079632699" xyz="0.0888570334677 -0.00444499995661 -0.0667485273456"/>
  </joint>
  <link name="frame_solid:11">
    <visual>
      <geometry>
        <mesh filename="package://abby_description/meshes/frame_solid_iam_8d469021.stl" scale="0.0254 0.0254 0.0254"/>
      </geometry>
      <origin rpy="0 0 0" xyz="-3.47155770013 -0.38147033036 2.30808809655"/>
      <material name="frame_solid:11_color">
        <color rgba="0.752941 0.752941 0.752941 1"/>
      </material>
    </visual>
    <inertial>
      <mass value="76.9265443978"/>
      <inertia ixx="-0.199581653007" ixy="-0.082679316884" ixz="0.0112391336768" iyy="2.03829571699" iyz="-0.249221082043" izz="-0.62699233072"/>
      <origin rpy="0 0 0" xyz="-0.250028710016 -0.128949655059 0.228101121891"/>
    </inertial>
    <collision>
      <geometry>
        <mesh filename="package://abby_description/meshes/frame_solid_iam_8d469021.stl" scale="0.0254 0.0254 0.0254"/>
      </geometry>
      <origin rpy="0 0 0" xyz="-3.47155770013 -0.38147033036 2.30808809655"/>
    </collision>
  </link>
  <joint name="b_l_frame_plate--frame_solid:11" type="fixed">
    <parent link="b_l_frame_plate1"/>
    <child link="frame_solid:11"/>
    <origin rpy="1.47691420527 0 -3.14159265334" xyz="0.0380441199796 0.101448124476 0.00317600333501"/>
  </joint>
  <link name="l_caster1">
    <visual>
      <geometry>
        <mesh filename="package://abby_description/meshes/caster_ipt_ca03a3d7.stl" scale="0.0254 0.0254 0.0254"/>
      </geometry>
      <origin rpy="0 0 0" xyz="8.42753967015e-07 -0.13652463702 -0.0253998728835"/>
      <material name="l_caster1_color">
        <color rgba="0 0 0 1"/>
      </material>
    </visual>
    <inertial>
      <mass value="0.141176996424"/>
      <inertia ixx="0.00051323847608" ixy="0.0" ixz="0.0" iyy="0.00026112292147" iyz="0.000151341028831" izz="0.00058482333902"/>
      <origin rpy="0 0 0" xyz="-2.95905491936e-07 -0.0595480601633 0.018131413861"/>
    </inertial>
    <collision>
      <geometry>
        <mesh filename="package://abby_description/meshes/caster_ipt_ca03a3d7.stl" scale="0.0254 0.0254 0.0254"/>
      </geometry>
      <origin rpy="0 0 0" xyz="8.42753967015e-07 -0.13652463702 -0.0253998728835"/>
    </collision>
  </link>
  <joint name="l_caster_joint" type="continuous">
    <parent link="frame_solid:11"/>
    <child link="l_caster1"/>
    <axis xyz="0 1 0"/>
    <origin rpy="3.14159154933 -0.529419117266 -3.1415922637" xyz="-0.016388080036 -0.149221796489 0.625818601504"/>
  </joint>
  <link name="l_caster_wheel1">
    <visual>
      <geometry>
        <mesh filename="package://abby_description/meshes/caster wheel_ipt_4784d7d8.stl" scale="0.0254 0.0254 0.0254"/>
      </geometry>
      <origin rpy="0 0 0" xyz="-1.18418908775e-06 -0.0380989161968 -1.67691861175e-06"/>
      <material name="l_caster_wheel1_color">
        <color rgba="0.752941 0.752941 0.752941 1"/>
      </material>
    </visual>
    <inertial>
      <mass value="1.4177347039"/>
      <inertia ixx="0.0034966317219" ixy="0.0" ixz="0.0" iyy="0.0063467697834" iyz="0.0" izz="0.0034966317219"/>
      <origin rpy="0 0 0" xyz="-1.18418908775e-06 -0.0380989161968 -1.67691861175e-06"/>
    </inertial>
    <collision>
      <geometry>
        <mesh filename="package://abby_description/meshes/caster wheel_ipt_4784d7d8.stl" scale="0.0254 0.0254 0.0254"/>
      </geometry>
      <origin rpy="0 0 0" xyz="-1.18418908775e-06 -0.0380989161968 -1.67691861175e-06"/>
    </collision>
  </link>
  <joint name="l_caster_wheel_joint" type="continuous">
    <parent link="l_caster1"/>
    <child link="l_caster_wheel1"/>
    <axis xyz="0 1 0"/>
    <origin rpy="6.29554520079e-07 -0.0978245101151 -1.57079646214" xyz="0.0374386651859 -0.136525432368 0.0571509283666"/>
  </joint>
  <link name="r_caster1">
    <visual>
      <geometry>
        <mesh filename="package://abby_description/meshes/caster_ipt_ca03a3d7.stl" scale="0.0254 0.0254 0.0254"/>
      </geometry>
      <origin rpy="0 0 0" xyz="-1.44488080778e-07 -0.136524926369 -0.0254000128924"/>
      <material name="r_caster1_color">
        <color rgba="0 0 0 1"/>
      </material>
    </visual>
    <inertial>
      <mass value="0.141176996424"/>
      <inertia ixx="0.00051323847608" ixy="0.0" ixz="0.0" iyy="0.00026112292147" iyz="0.000151341028831" izz="0.00058482333902"/>
      <origin rpy="0 0 0" xyz="1.20291708094e-07 -0.0595479590544 0.0181329136137"/>
    </inertial>
    <collision>
      <geometry>
        <mesh filename="package://abby_description/meshes/caster_ipt_ca03a3d7.stl" scale="0.0254 0.0254 0.0254"/>
      </geometry>
      <origin rpy="0 0 0" xyz="-1.44488080778e-07 -0.136524926369 -0.0254000128924"/>
    </collision>
  </link>
  <joint name="r_caster_joint" type="continuous">
    <parent link="frame_solid:11"/>
    <child link="r_caster1"/>
    <axis xyz="0 1 0"/>
    <origin rpy="0 -0.0645005439914 0" xyz="-0.446765426036 -0.149221796474 0.625818601482"/>
  </joint>
  <link name="r_caster_wheel1">
    <visual>
      <geometry>
        <mesh filename="package://abby_description/meshes/caster wheel_ipt_4784d7d8.stl" scale="0.0254 0.0254 0.0254"/>
      </geometry>
      <origin rpy="0 0 0" xyz="-1.43565576272e-06 -0.0380999206774 0"/>
      <material name="r_caster_wheel1_color">
        <color rgba="0.752941 0.752941 0.752941 1"/>
      </material>
    </visual>
    <inertial>
      <mass value="1.4177347039"/>
      <inertia ixx="0.0034966317219" ixy="0.0" ixz="0.0" iyy="0.0063467697834" iyz="0.0" izz="0.0034966317219"/>
      <origin rpy="0 0 0" xyz="-1.43565576272e-06 -0.0380999206774 0"/>
    </inertial>
    <collision>
      <geometry>
        <mesh filename="package://abby_description/meshes/caster wheel_ipt_4784d7d8.stl" scale="0.0254 0.0254 0.0254"/>
      </geometry>
      <origin rpy="0 0 0" xyz="-1.43565576272e-06 -0.0380999206774 0"/>
    </collision>
  </link>
  <joint name="r_caster_wheel_joint" type="continuous">
    <parent link="r_caster1"/>
    <child link="r_caster_wheel1"/>
    <axis xyz="0 1 0"/>
    <origin rpy="-2.44191411285e-07 0.632428512243 -1.570796684" xyz="0.0374395826544 -0.13652471423 0.0571493788518"/>
  </joint>
  <link name="l_drive_wheel1">
    <visual>
      <geometry>
        <mesh filename="package://abby_description/meshes/wheel_ipt_982fa4fe.stl" scale="0.0254 0.0254 0.0254"/>
      </geometry>
      <origin rpy="0 0 0" xyz="0 0 0"/>
      <material name="l_drive_wheel1_color">
        <color rgba="0.752941 0.752941 0.752941 1"/>
      </material>
    </visual>
    <inertial>
      <mass value="3.52668067675"/>
      <inertia ixx="0.032456077033" ixy="0.0" ixz="0.0" iyy="0.062503458919" iyz="0.0" izz="0.032456077033"/>
      <origin rpy="0 0 0" xyz="0 -0.00071882 0"/>
    </inertial>
    <collision>
      <geometry>
        <mesh filename="package://abby_description/meshes/wheel_ipt_982fa4fe.stl" scale="0.0254 0.0254 0.0254"/>
      </geometry>
      <origin rpy="0 0 0" xyz="0 0 0"/>
    </collision>
  </link>
  <joint name="l_drive_wheel_joint" type="continuous">
    <parent link="frame_solid:11"/>
    <child link="l_drive_wheel1"/>
    <axis xyz="0 -1 0"/>
    <origin rpy="0 -0.119809660819 1.57079632679" xyz="0.0466801199851 -0.217162738547 0.147715939724"/>
  </joint>
  <link name="r_drive wheel1">
    <visual>
      <geometry>
        <mesh filename="package://abby_description/meshes/wheel_ipt_982fa4fe.stl" scale="0.0254 0.0254 0.0254"/>
      </geometry>
      <origin rpy="0 0 0" xyz="0 0 0"/>
      <material name="r_drive wheel1_color">
        <color rgba="0.752941 0.752941 0.752941 1"/>
      </material>
    </visual>
    <inertial>
      <mass value="3.52668067675"/>
      <inertia ixx="0.032456077033" ixy="0.0" ixz="0.0" iyy="0.062503458919" iyz="0.0" izz="0.032456077033"/>
      <origin rpy="0 0 0" xyz="0 -0.000718058 0"/>
    </inertial>
    <collision>
      <geometry>
        <mesh filename="package://abby_description/meshes/wheel_ipt_982fa4fe.stl" scale="0.0254 0.0254 0.0254"/>
      </geometry>
      <origin rpy="0 0 0" xyz="0 0 0"/>
    </collision>
  </link>
  <joint name="r_drive_wheel_joint" type="continuous">
    <parent link="frame_solid:11"/>
    <child link="r_drive wheel1"/>
    <axis xyz="0 1 0"/>
    <origin rpy="0 -0.443332433305 -1.57079632679" xyz="-0.509833626015 -0.217162738527 0.147715939697"/>
  </joint>
  <joint name="frame_arm" type="fixed">
    <parent link="frame1"/>
    <child link="irb_120_base_link"/>
    <origin rpy="3.1415926535 1.57079632679 0" xyz="0.046 -0.55 .75"/>
  </joint>
</robot>
